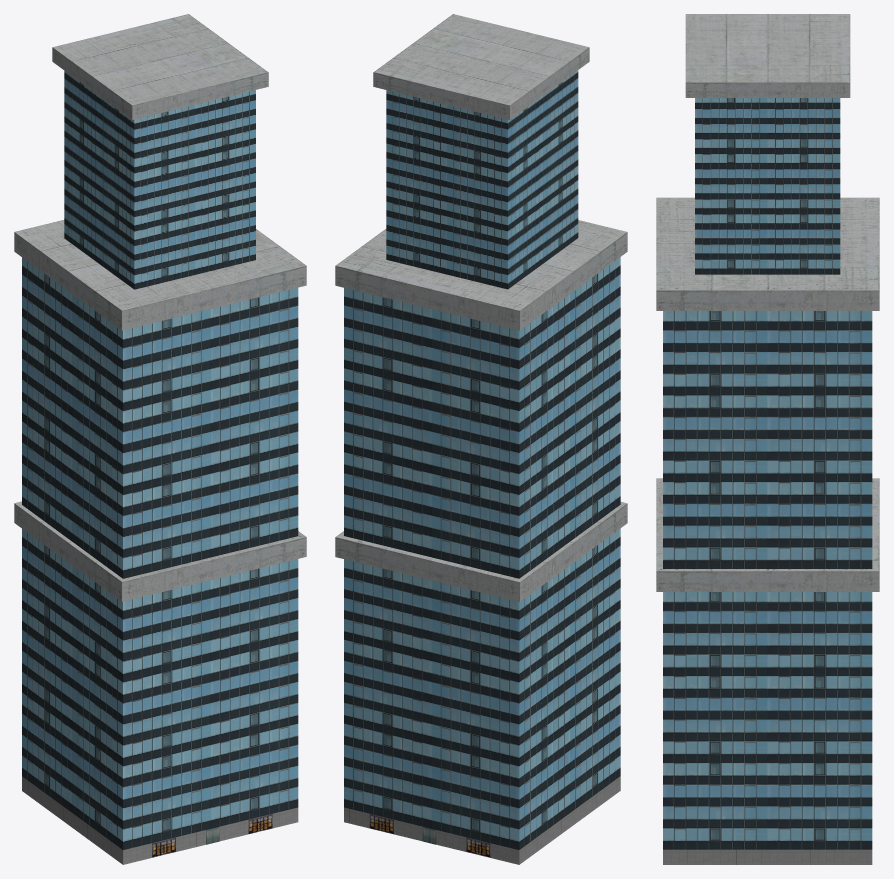
The model's file is Building023.fbx.
3 renders of one model, left to right at view 1: azimuth 30°, elevation 25°; view 2: azimuth 150°, elevation 25°; view 3: azimuth 270°, elevation 25°, orthographic. The views are drawn at different scales.
Parts seen in each view (by area): view 1: Building023; view 2: Building023; view 3: Building023.
Boxes of the visible parts, box(x1,y1,x2,y2) form: Building023: box(14, 14, 306, 864); Building023: box(335, 14, 627, 864); Building023: box(656, 14, 879, 864).
Bounding box in the file's own units: 33.13 × 128 × 33.53.
